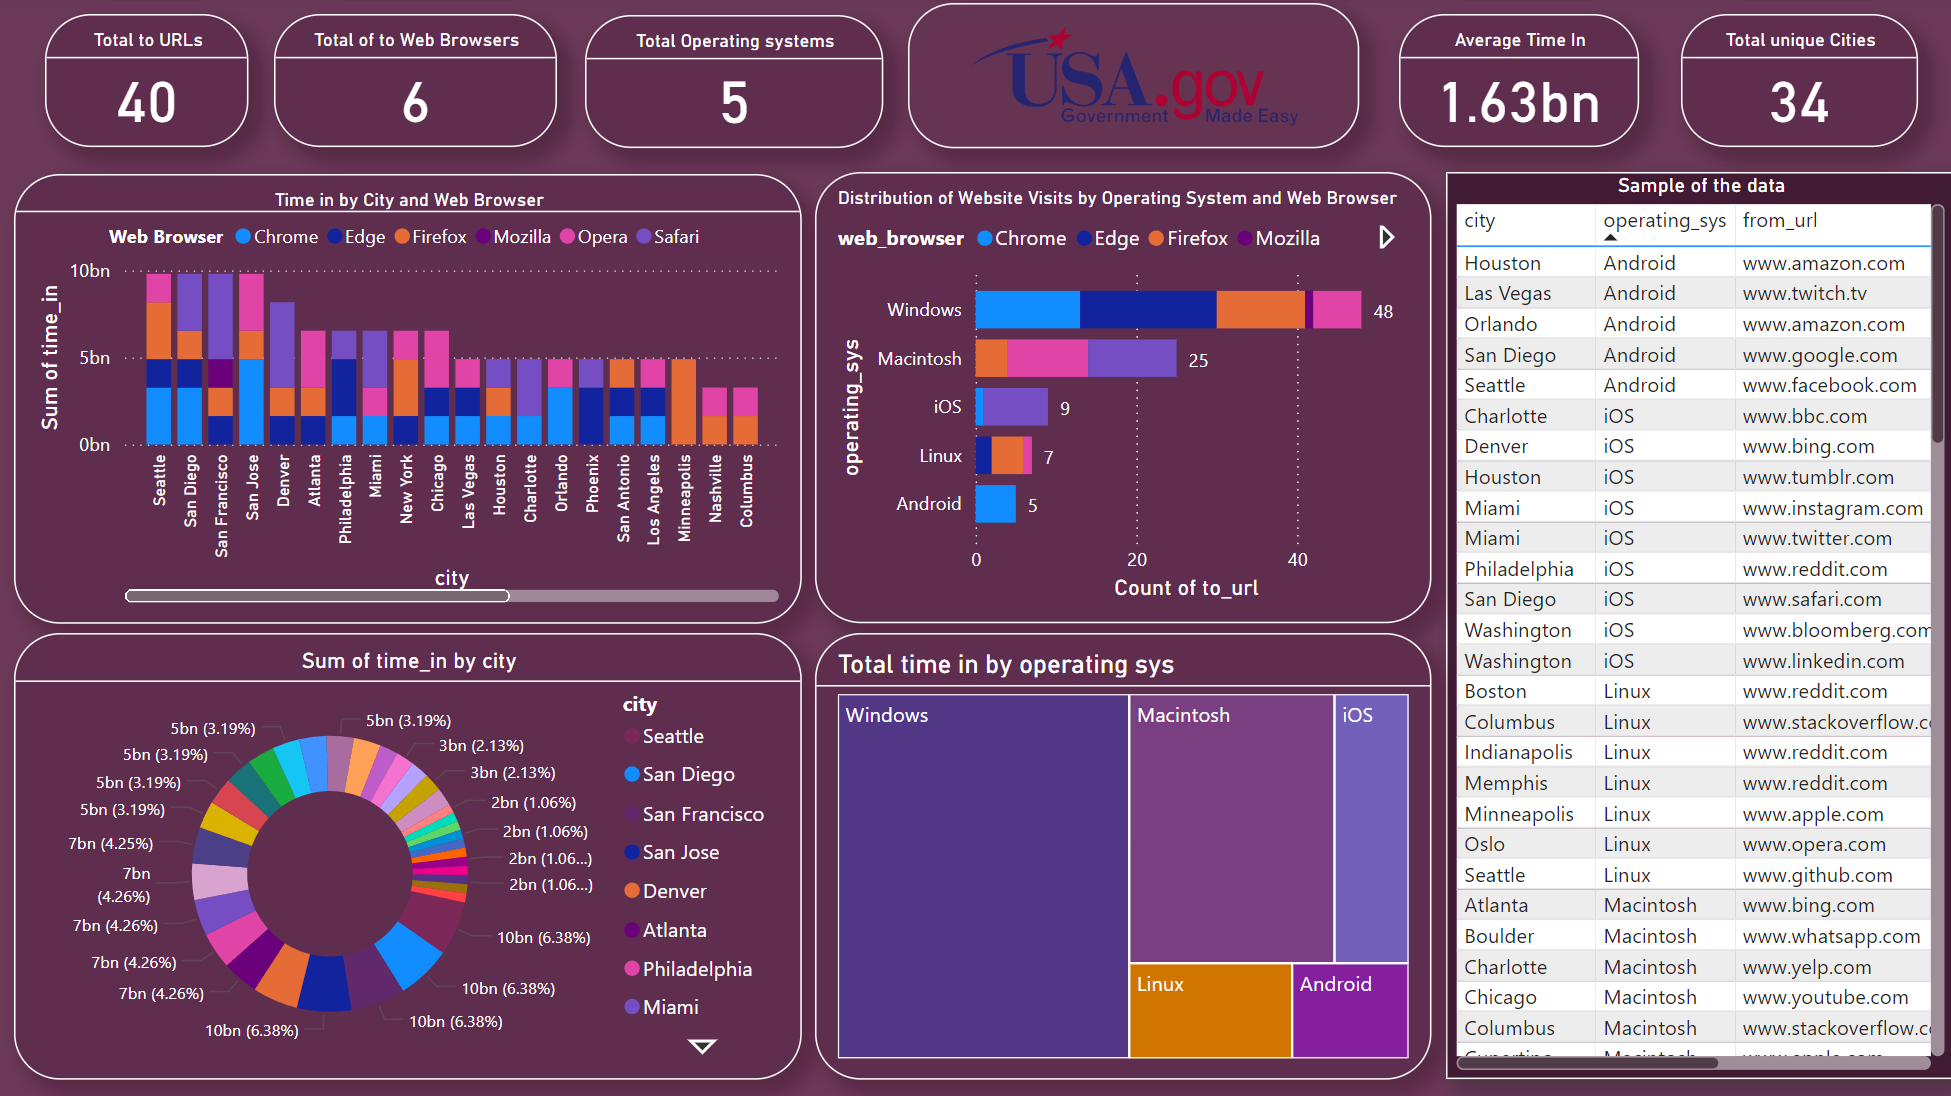

The dashboard page shown, as its layout file describes it:
{"tool":"powerbi","page":{"name":"Page 1","canvas":[1280,720],"ordinal":0},"visuals":[{"type":"columnChart","title":"Time in by City and Web Browser","fields":{"Category":["final_file (2).city"],"Y":["Sum(final_file (2).time_in)"],"Series":["final_file (2).web_browser"]},"box":[11.1,115.2,515,293.8],"z":0},{"type":"donutChart","fields":{"Category":["final_file (2).city"],"Y":["Sum(final_file (2).time_in)"]},"box":[11.1,414.9,515,291.9],"z":1000},{"type":"tableEx","title":"Sample of the data","fields":{"Values":["final_file.city","final_file.operating_sys","final_file.from_url","final_file.time_zone","final_file.web_browser"]},"box":[947.6,113.9,332.4,592.9],"z":1001},{"type":"image","box":[595.3,3.3,295.3,94.7],"z":1003},{"type":"barChart","title":"Distribution of Website Visits by Operating System and Web Browser","fields":{"Series":["final_file.web_browser"],"Category":["final_file.operating_sys"],"Y":["CountNonNull(final_file.to_url)"]},"box":[534.6,113.9,403.1,295.1],"z":1004},{"type":"treemap","title":"Total time in by operating sys","fields":{"Group":["final_file.operating_sys"],"Values":["Sum(final_file.time_in)"]},"box":[535,415,403,292],"z":1005},{"type":"card","title":"Total to URLs","fields":{"Values":["Count(final_file.to_url)"]},"box":[31.3,10.7,133.3,87.3],"z":1006},{"type":"card","title":"Total  Operating systems","fields":{"Values":["Count(final_file.operating_sys)"]},"box":[384.7,11.3,194.7,86.7],"z":1007},{"type":"card","title":"Total of to Web Browsers","fields":{"Values":["Count(final_file.web_browser)"]},"box":[181.3,10.7,184.7,87.3],"z":1008},{"type":"card","title":"Average Time In","fields":{"Values":["Avg(final_file.time_in)"]},"box":[916.7,10.7,156.7,87.3],"z":1009},{"type":"card","title":"Total unique Cities","fields":{"Values":["Count(final_file.city)"]},"box":[1100.7,10.7,154.7,87.3],"z":1010}]}

Visuals, with their boxes in screenshot pixels (x1, y1, x2, y2), scaled from the page's 1280x720 canvas onto the 1951x1096 screenshot:
"Time in by City and Web Browser" columnChart: 17,175,802,623
donutChart - final_file (2).city x Sum(final_file (2).time_in): 17,632,802,1076
"Sample of the data" tableEx: 1444,173,1950,1076
image: 907,5,1357,149
"Distribution of Website Visits by Operating System and Web Browser" barChart: 815,173,1429,623
"Total time in by operating sys" treemap: 815,632,1430,1076
"Total to URLs" card: 48,16,251,149
"Total  Operating systems" card: 586,17,883,149
"Total of to Web Browsers" card: 276,16,558,149
"Average Time In" card: 1397,16,1636,149
"Total unique Cities" card: 1678,16,1914,149
